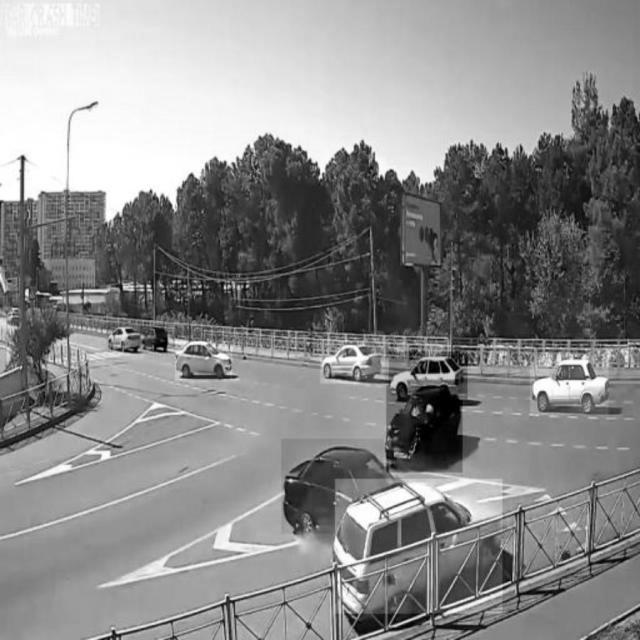vehicle: (335, 479, 503, 613), (282, 439, 384, 533), (387, 385, 463, 473), (531, 355, 609, 415), (389, 351, 467, 399), (320, 338, 384, 384), (176, 341, 233, 379), (108, 323, 143, 353), (143, 324, 168, 352)
